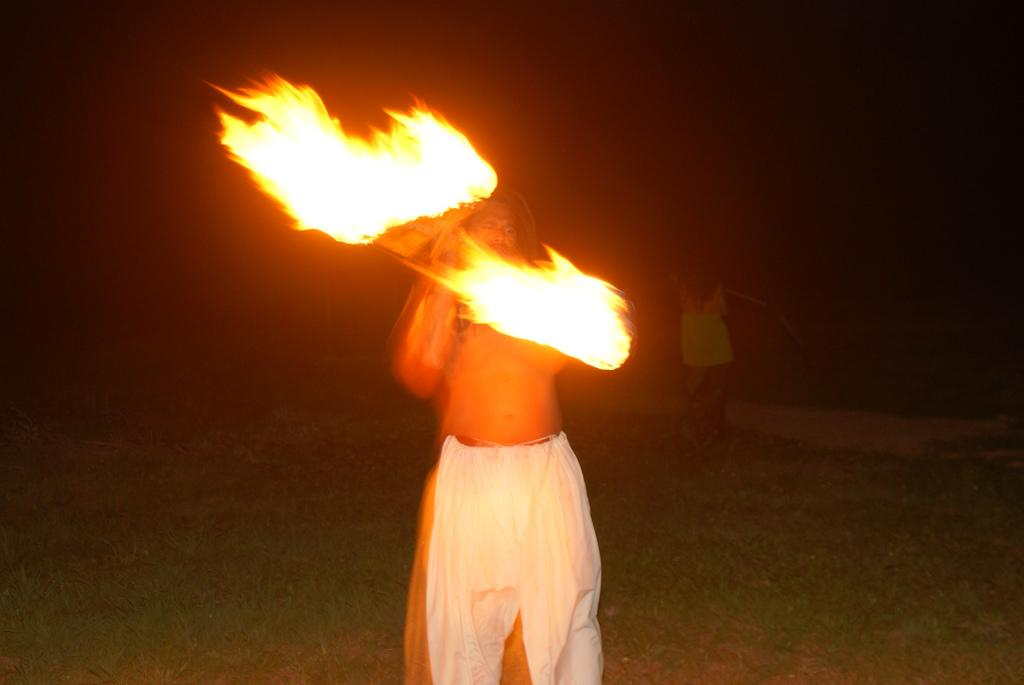fire: (268, 112, 465, 218), (495, 265, 627, 362)
